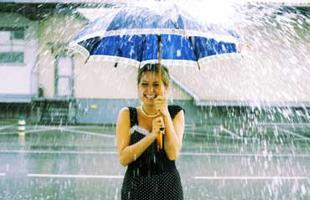person: (115, 64, 185, 200)
